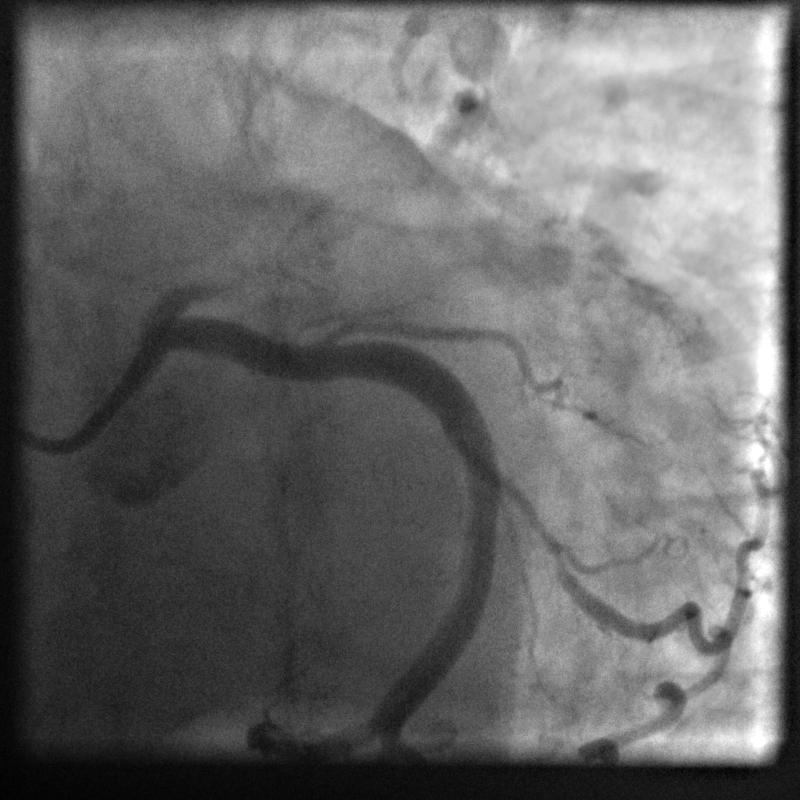Stenosis: (494, 460, 572, 583)
